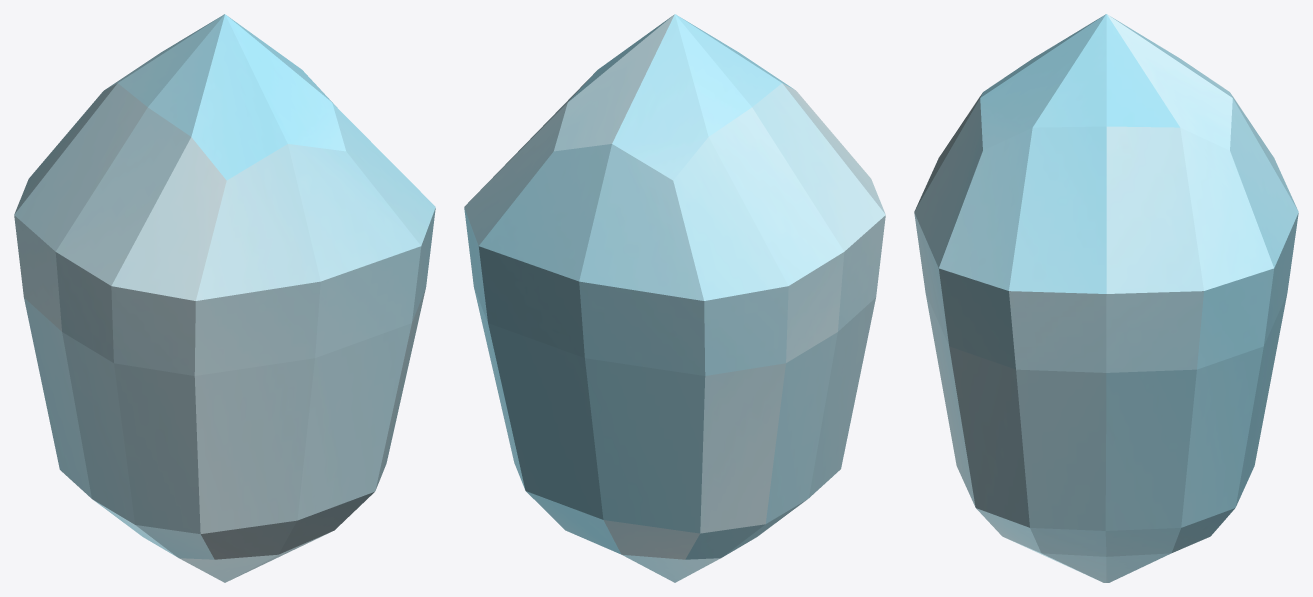
The model's file is bigBlueCrystal.fbx.
3 views of the same model, side by side, from view 1: azimuth 30°, elevation 25°; view 2: azimuth 150°, elevation 25°; view 3: azimuth 270°, elevation 25° (orthographic).
Visible parts, largest first — view 1: big blue crystal; view 2: big blue crystal; view 3: big blue crystal.
Part boxes in pixels (bbox=[...]): big blue crystal: bbox=[14, 14, 435, 582]; big blue crystal: bbox=[464, 14, 885, 582]; big blue crystal: bbox=[914, 14, 1298, 582].
Size of the model in its own units: 208 by 333 by 204.
1 material, 1 textured.
